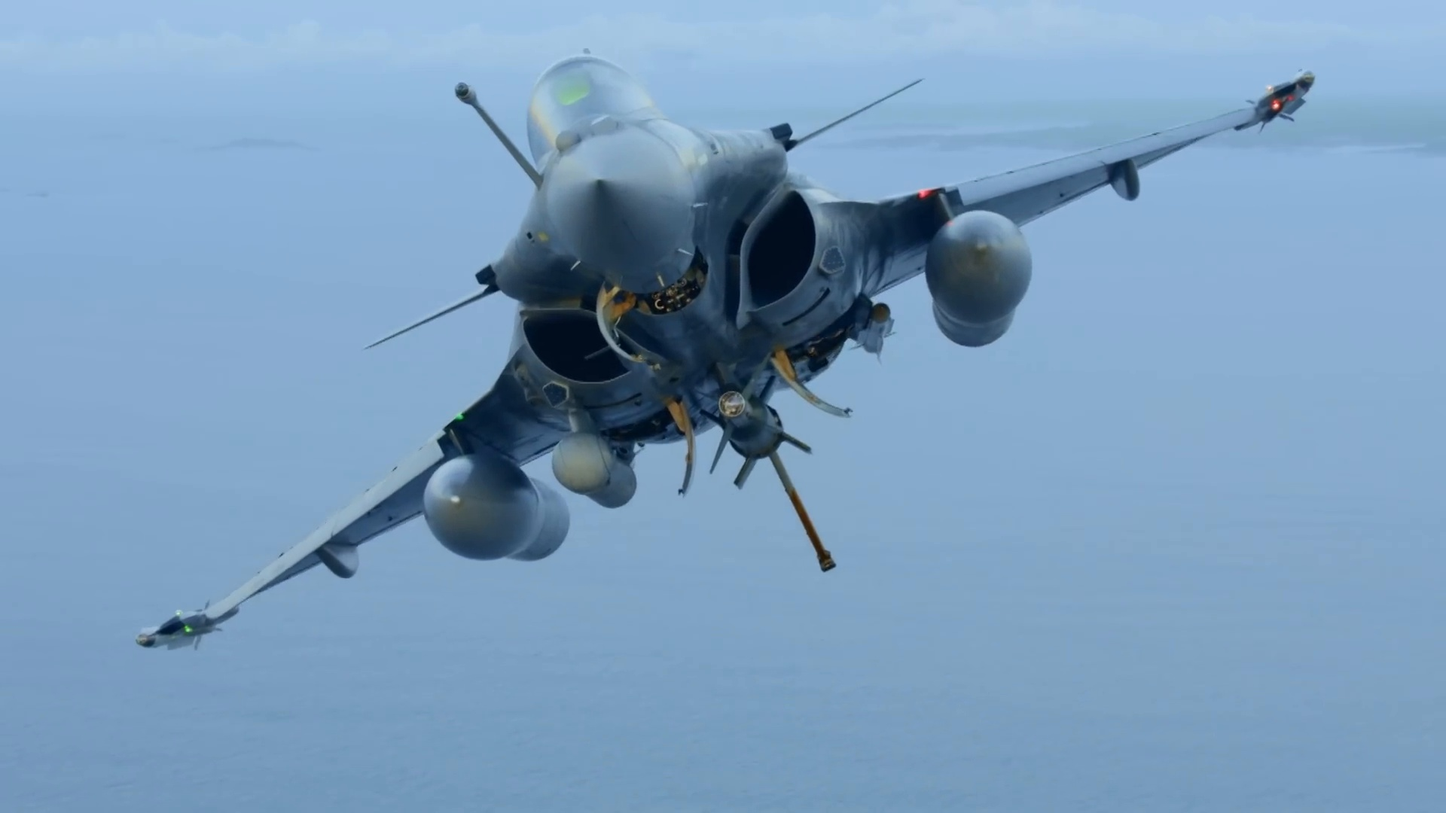Rafale: (128, 44, 1326, 661)
